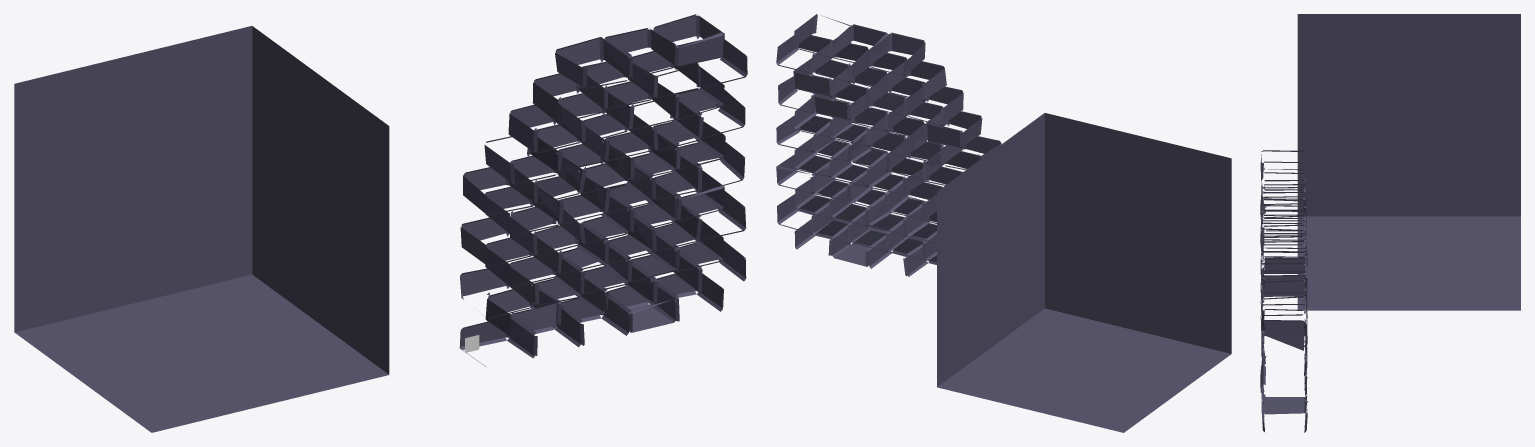
The model's file is BrickWallEndRc1.glb.
The picture shows the model from 3 angles, left to right: view 1: azimuth 30°, elevation 25°; view 2: azimuth 150°, elevation 25°; view 3: azimuth 270°, elevation 25°; orthographic projection. The views are drawn at different scales.
Parts seen in each view (by area): view 1: Cube.002, Cube, Cube.001; view 2: Cube.002, Cube, Cube.001; view 3: Cube.002, Cube, Cube.001.
Part boxes in pixels (bbox=[...]): Cube.002: bbox=[14, 26, 389, 432]; Cube: bbox=[459, 14, 725, 366]; Cube.001: bbox=[672, 39, 747, 292]; Cube.002: bbox=[937, 113, 1231, 432]; Cube: bbox=[793, 14, 1001, 276]; Cube.001: bbox=[776, 35, 835, 233]; Cube.002: bbox=[1297, 14, 1520, 310]; Cube: bbox=[1260, 150, 1307, 432]; Cube.001: bbox=[1261, 217, 1307, 420].
Bounding box in the file's own units: 4.84 × 2.27 × 2.34.
